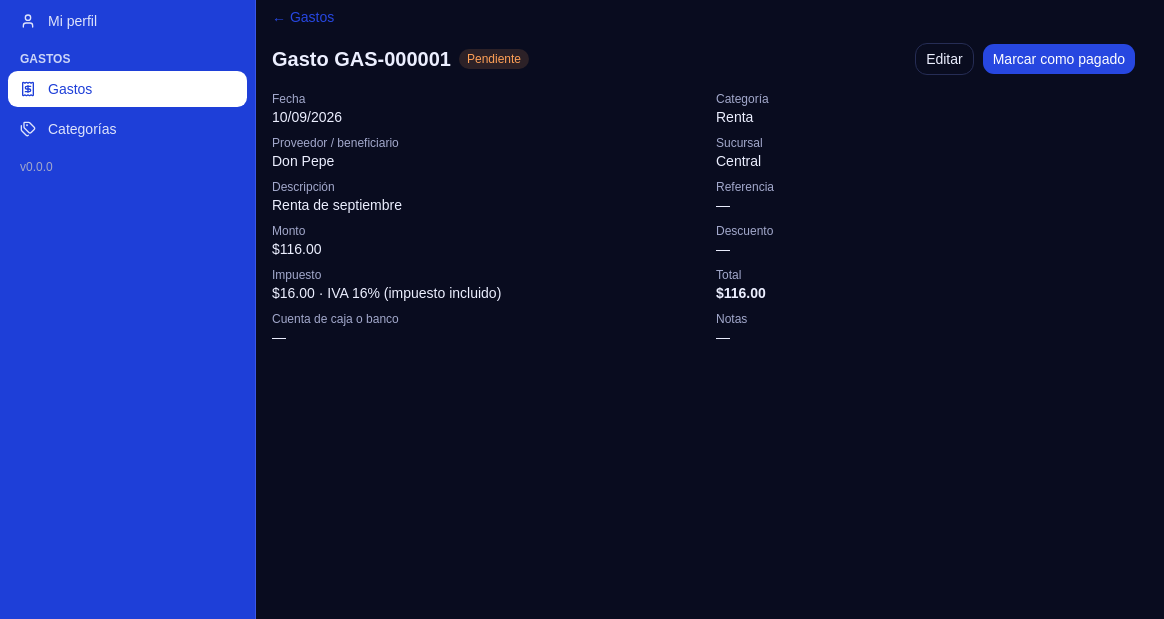
Test: Gastos — listado (F9-EXP-13) › editar un gasto pendiente pide el vencimiento y no la cuenta
Click the button "Editar" at (944, 59), box [915,43,974,75]
(page scrolled)
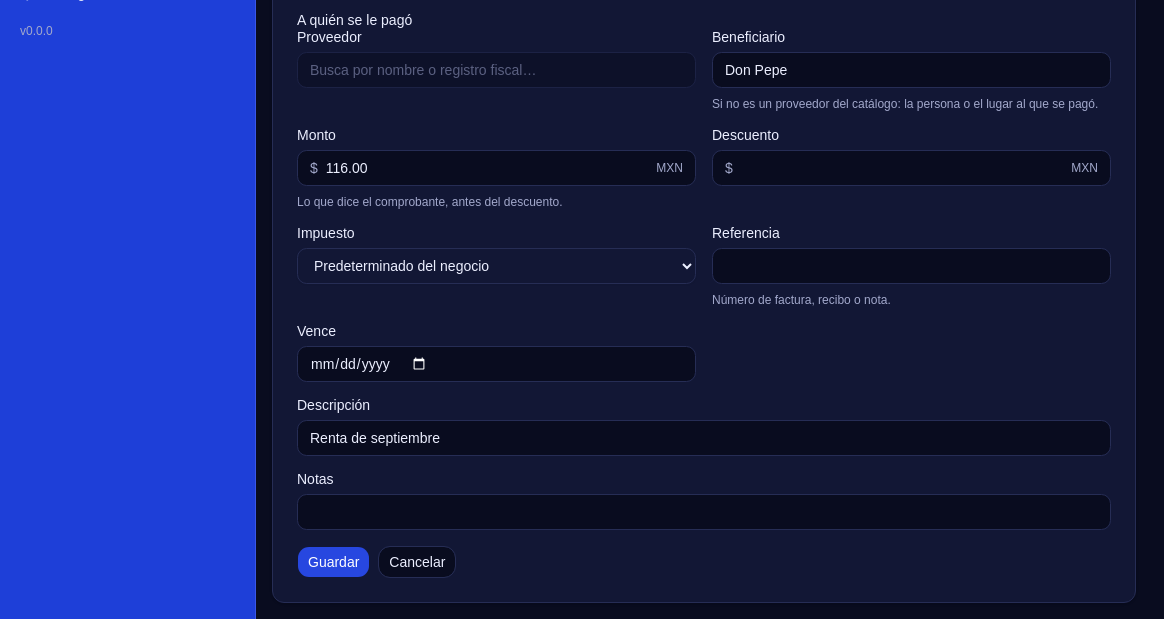
expect the date field labelled "Vence" is shown: met, box [297,346,696,382]
expect the text labelled "Cuenta de caja o banco" is gone: met
